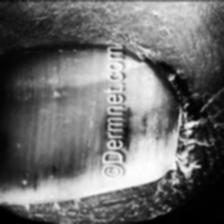Toxin: (164, 77, 214, 177)
